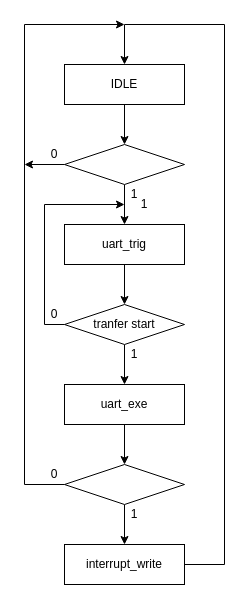
Some shapes in this 250 by 602 pixel diagram are drawn without their labels. Here are the shapes that lost their labels. From the top down, the box of each, then its label:
(64, 144, 184, 184): uart enable
(64, 464, 184, 504): Interrupt Enable
